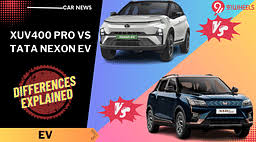XUV 400: (146, 72, 253, 141)
